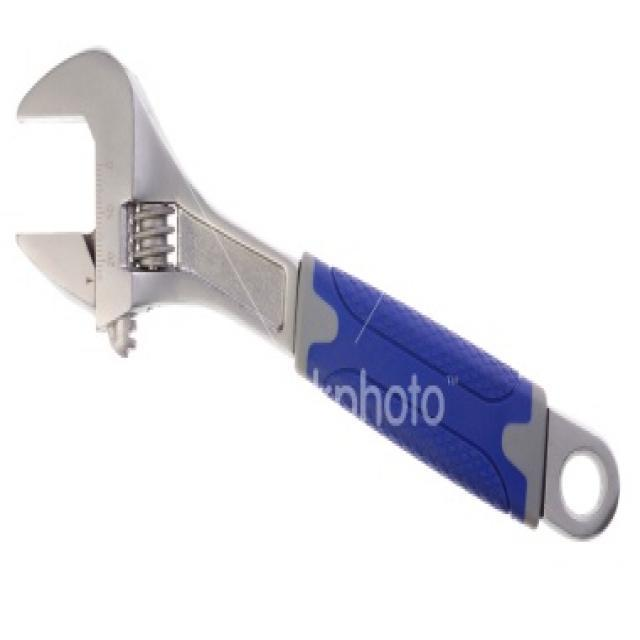wrench: (6, 42, 628, 556)
